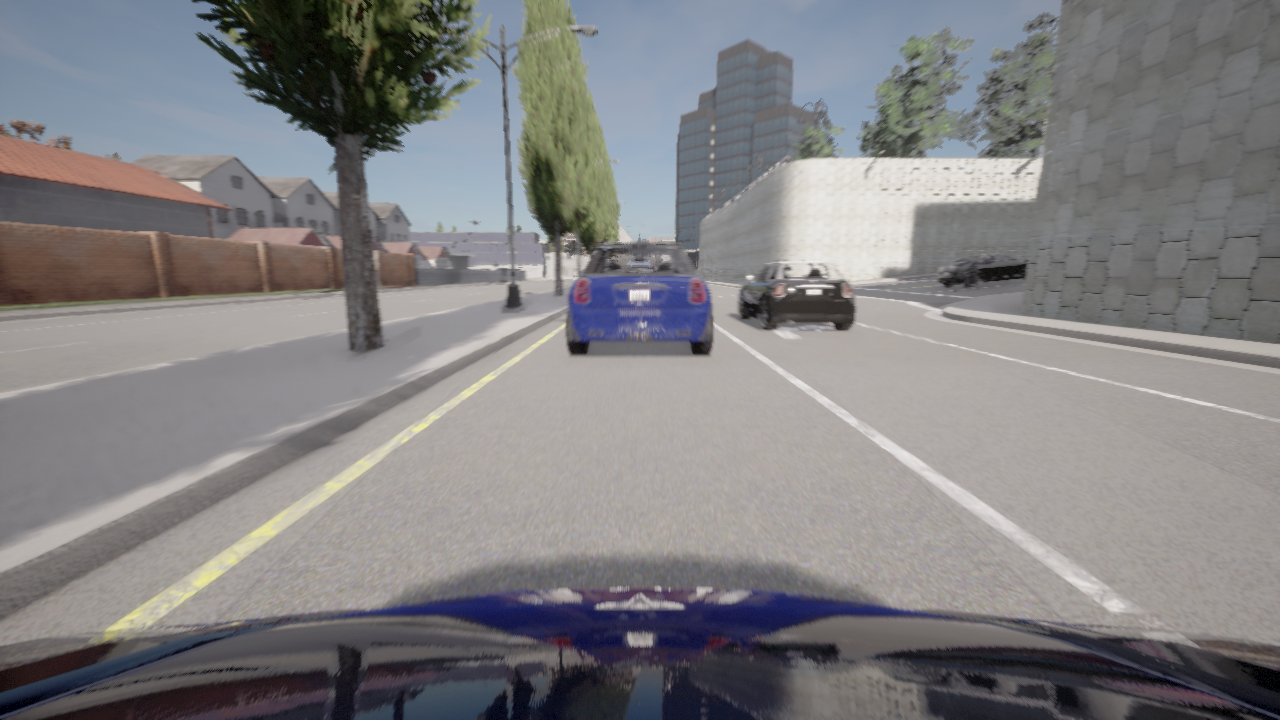cyclist: (0, 588, 1279, 719), (566, 234, 712, 354), (738, 261, 856, 330), (937, 254, 1027, 286)
